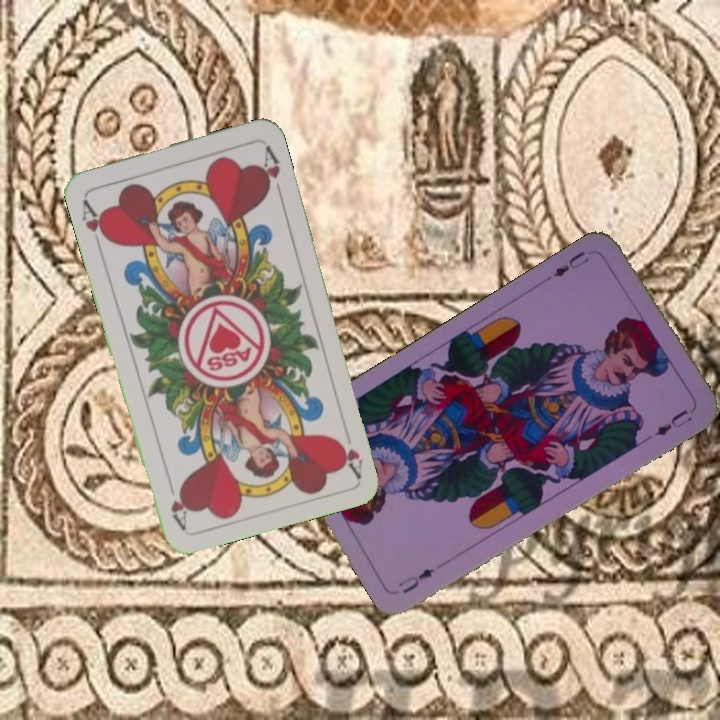EU: (394, 564, 437, 597), (549, 247, 591, 280)
HA: (334, 421, 366, 480), (77, 195, 112, 245)
